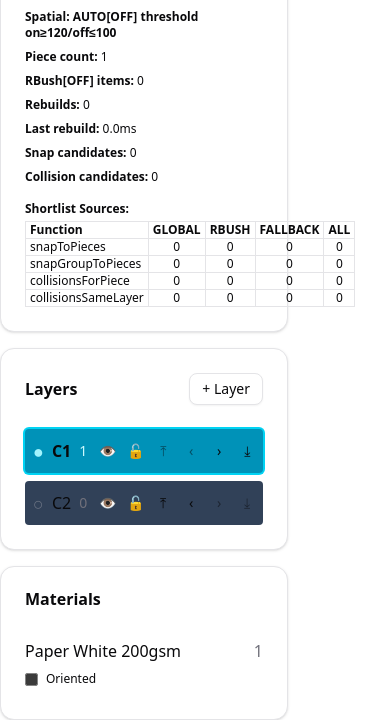
Layers Panel UI › active layer badge displays on active layer row
(page scrolled)
Expected: the text "●" is shown, [33,437,44,465]
Expected: the text with test id "active-layer-badge-C1" reads "●", [33,439,44,463]
# Click C2 badge - should bubble up to parent div with onClick
Click the text with test id "active-layer-badge-C2". click: (38, 503)
box: [33,489,44,517]
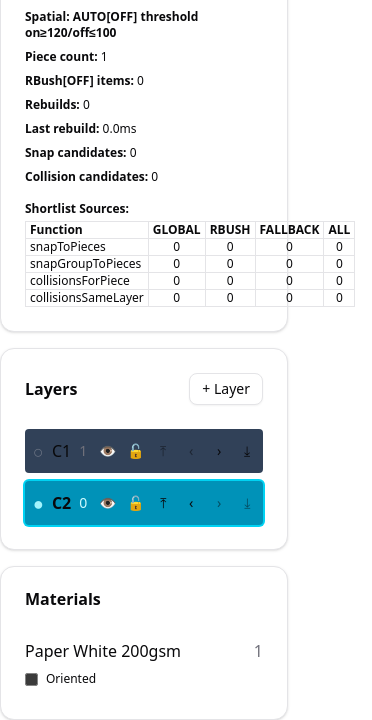
Expected: the text with test id "active-layer-badge-C2" reads "●", [33,491,44,515]
Expected: the text with test id "active-layer-badge-C1" reads "○", [33,439,44,463]
